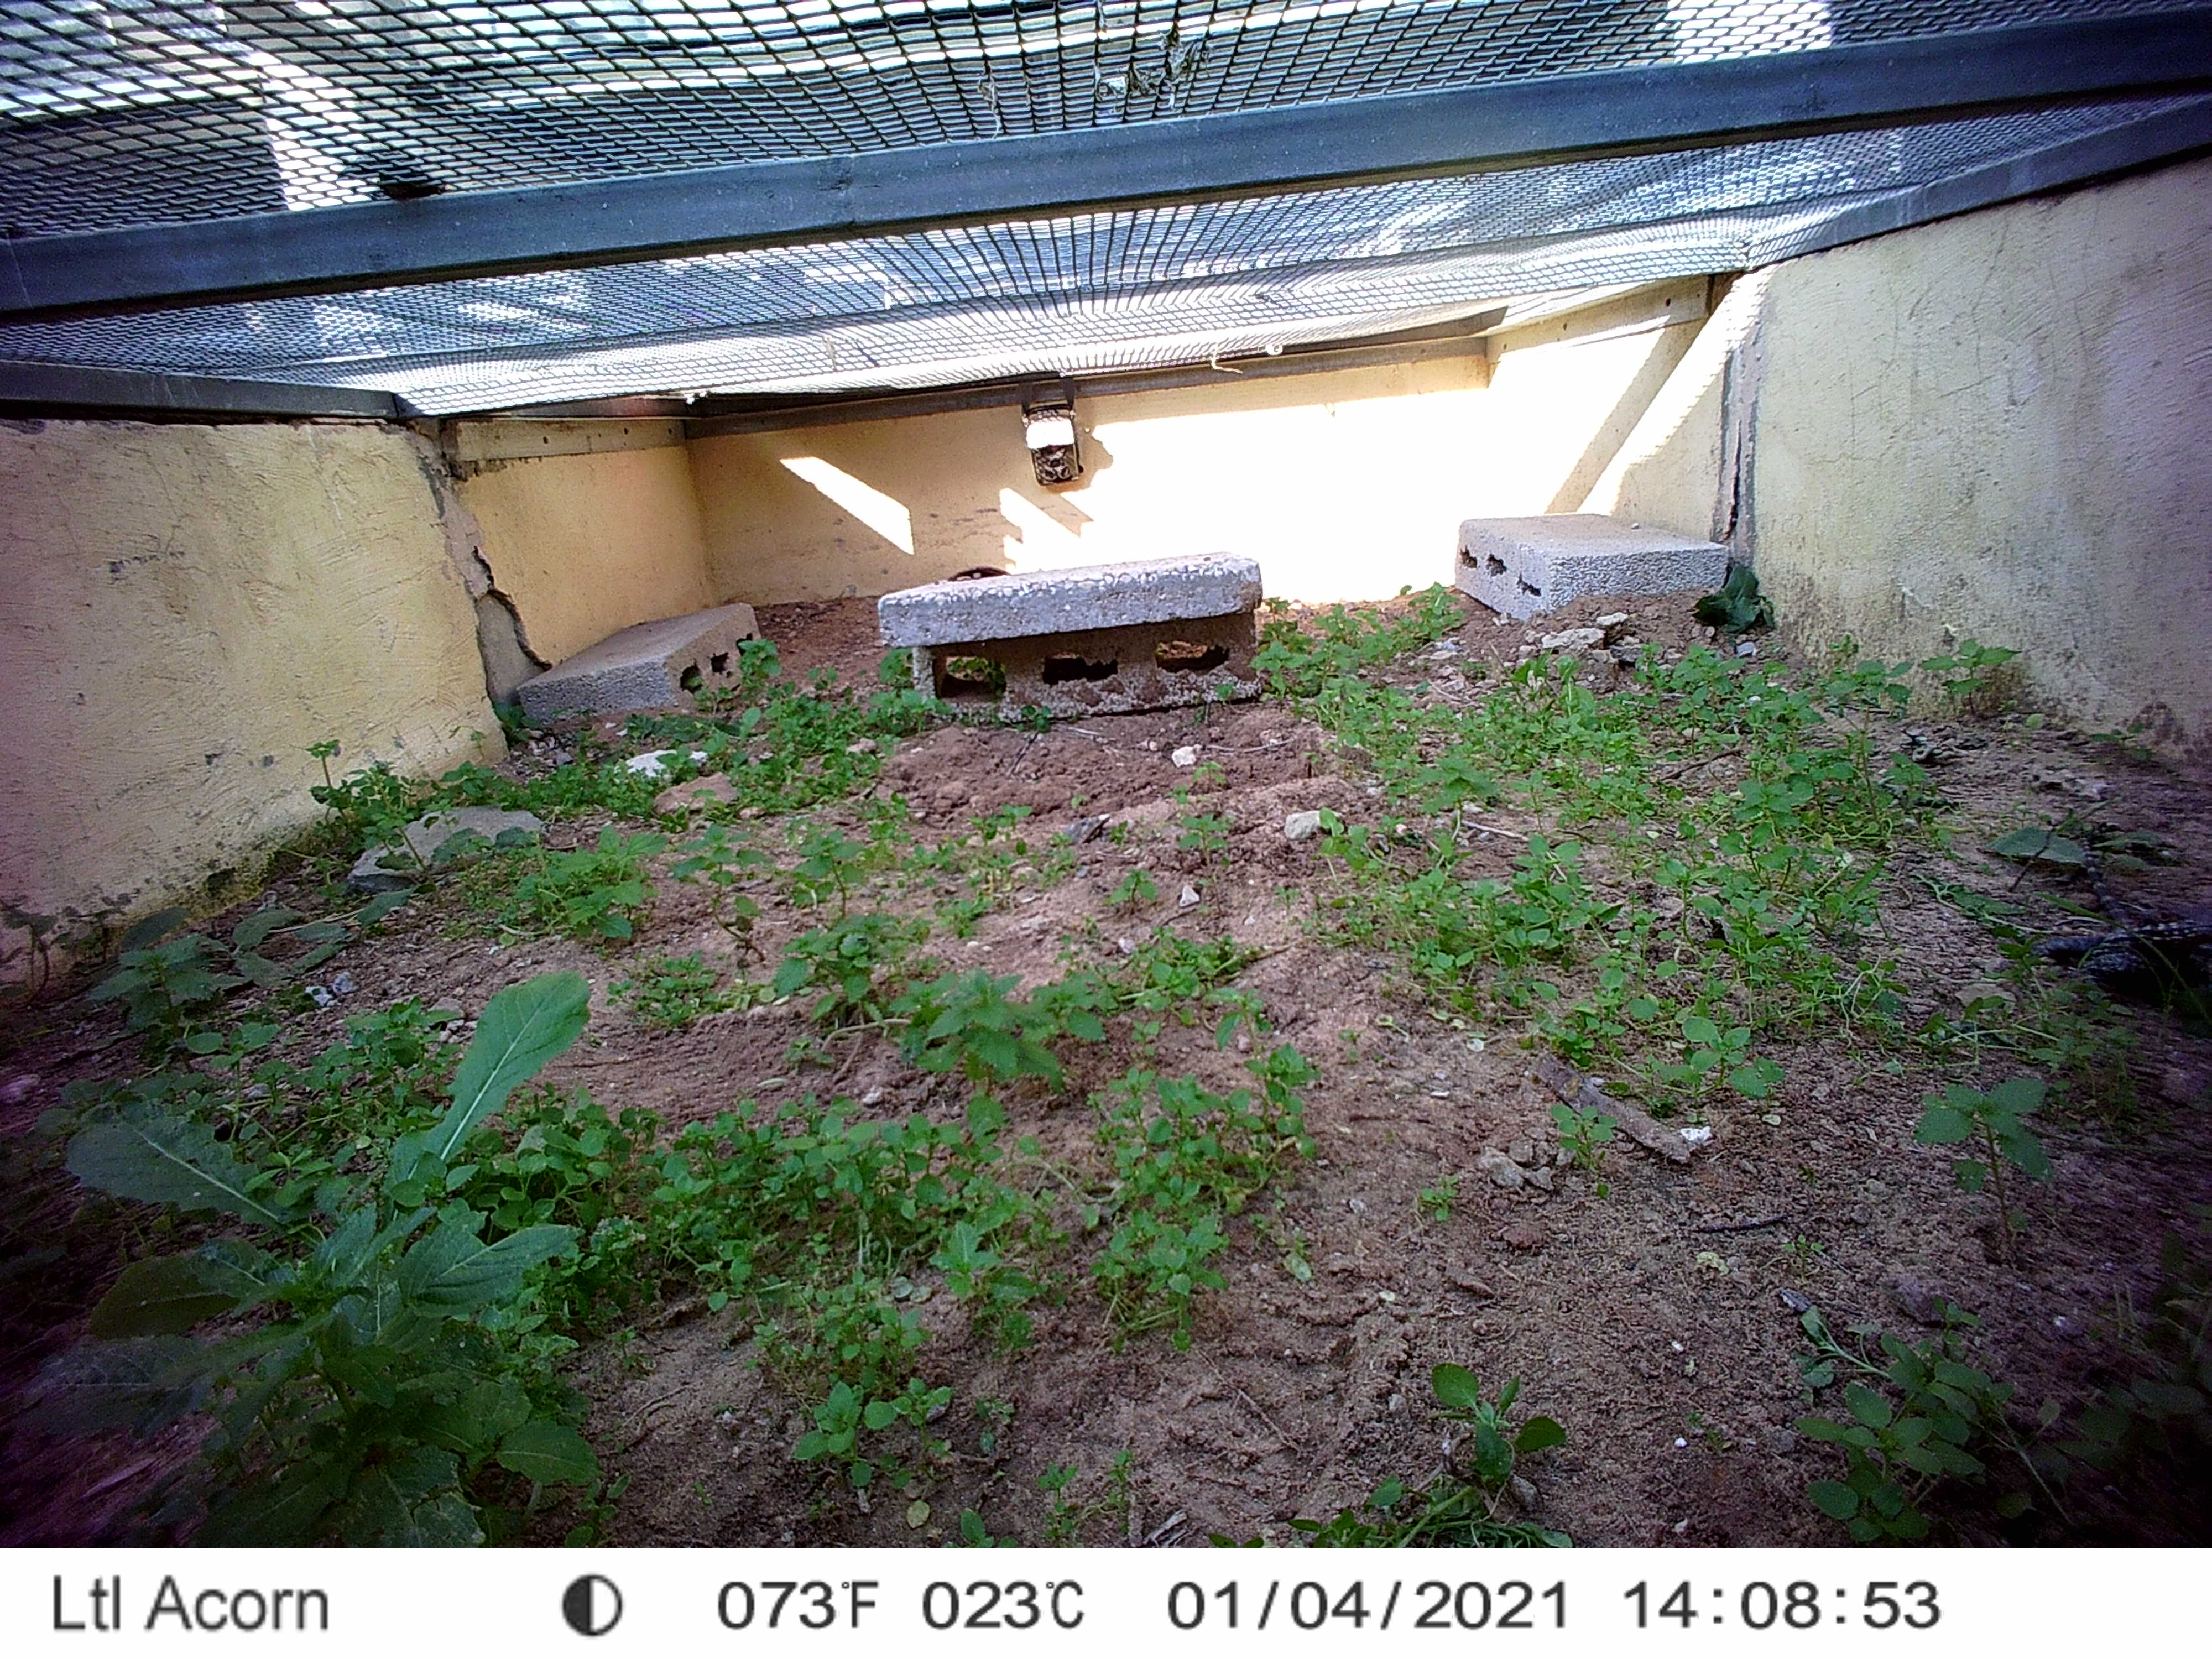lizard: (2012, 819, 2207, 999)
